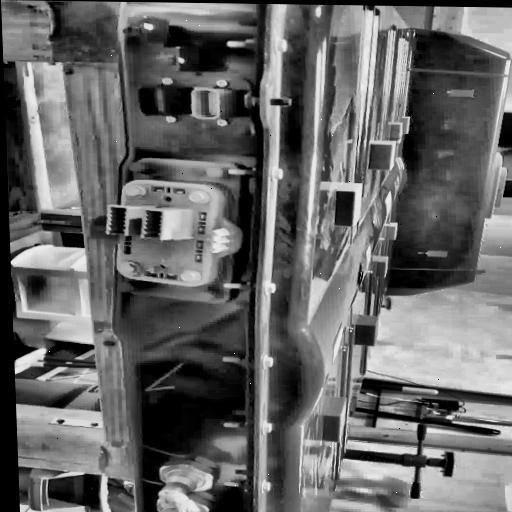b_casing: (258, 4, 512, 512)
nut: (269, 36, 290, 54), (267, 165, 286, 183), (262, 279, 280, 295), (259, 419, 275, 436), (259, 354, 274, 372), (258, 479, 276, 493)
